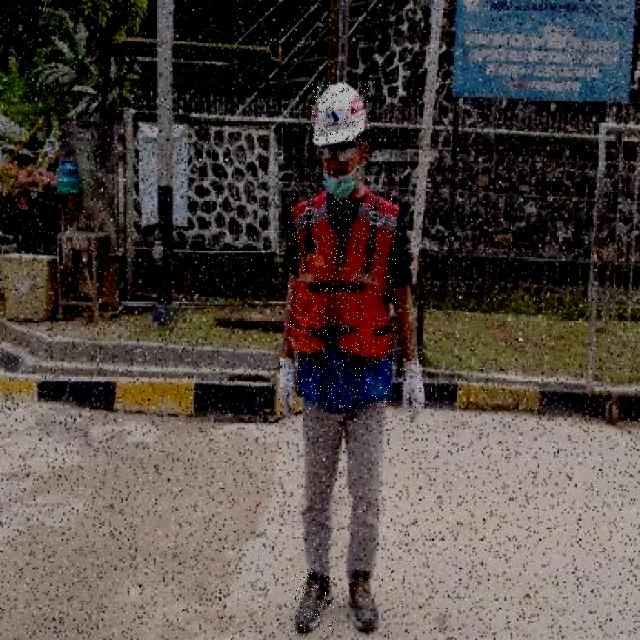gloves: (384, 364, 434, 426), (266, 348, 298, 418)
helmet: (308, 82, 370, 144)
no-boots: (292, 568, 334, 636), (346, 568, 380, 636)
vest: (288, 194, 397, 409)
